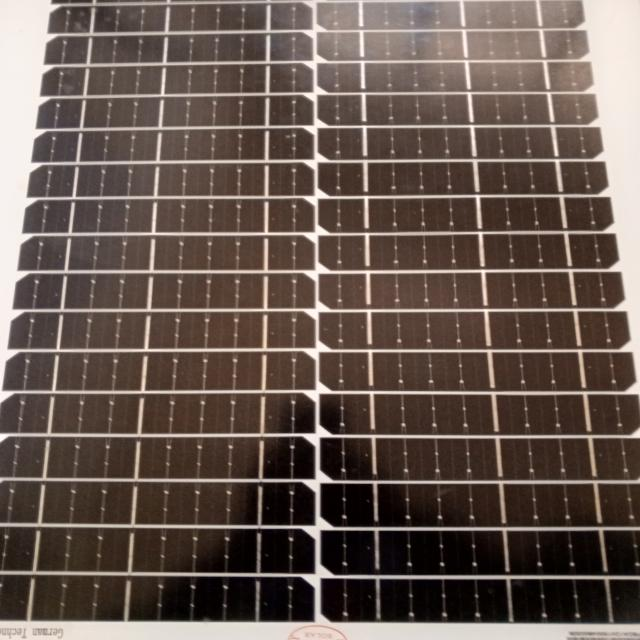Clean: (32, 4, 608, 630)
